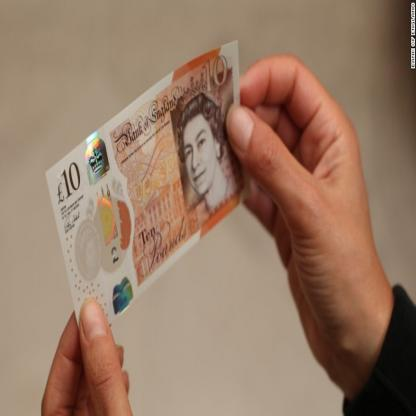billete: (45, 40, 253, 341)
